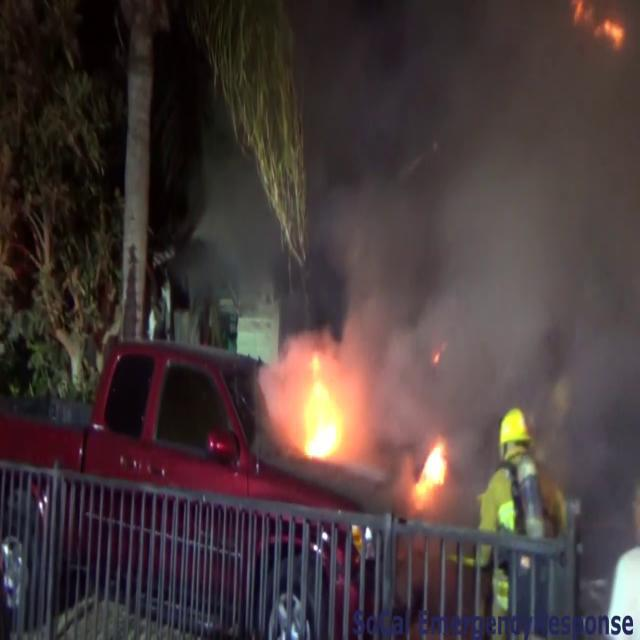Fire: (276, 334, 364, 468), (408, 434, 450, 514)
Smoke: (282, 0, 640, 422)
